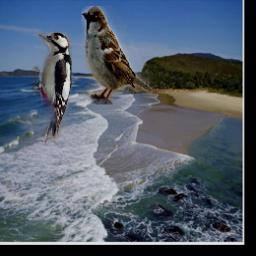Sparrow: (82, 7, 153, 106)
Woodpecker: (32, 33, 73, 143)
